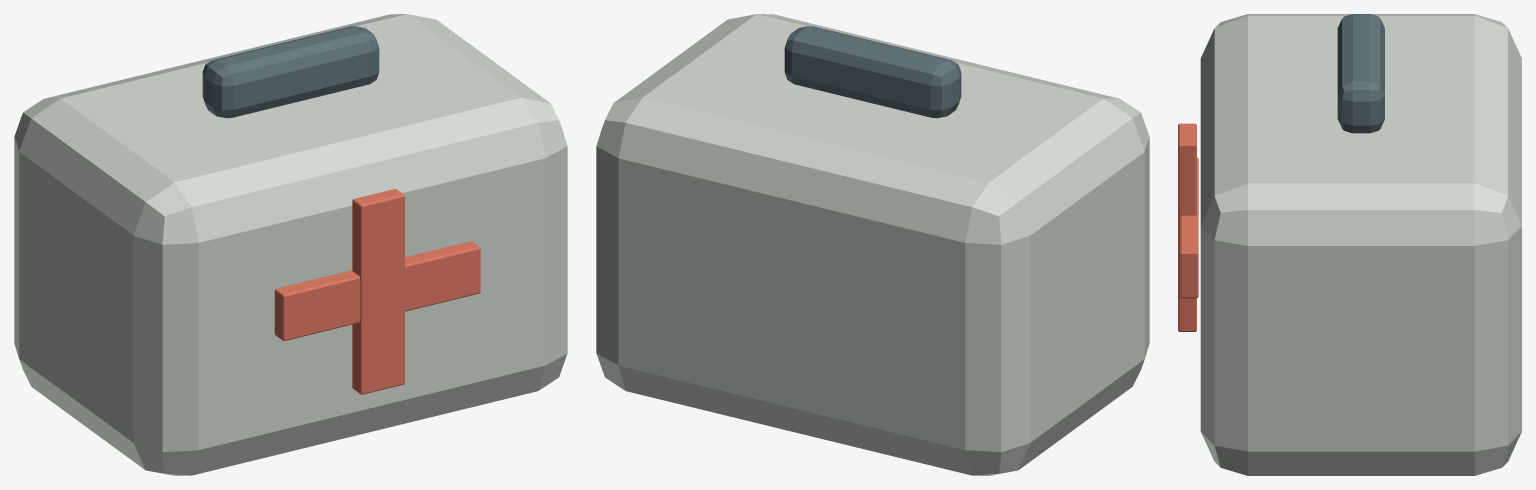
File: medkit.glb
3 renders of one model, left to right at view 1: azimuth 30°, elevation 25°; view 2: azimuth 150°, elevation 25°; view 3: azimuth 270°, elevation 25°, orthographic.
Parts seen in each view (by area): view 1: Medical case, Handle, Cross vertical, Cross horizontal; view 2: Medical case, Handle; view 3: Medical case, Handle, Cross vertical, Cross horizontal.
Part boxes in pixels (left/top/right/bottom): Medical case: left=14, top=14, right=567, bottom=475; Handle: left=202, top=26, right=379, bottom=118; Cross vertical: left=352, top=189, right=404, bottom=394; Cross horizontal: left=274, top=241, right=480, bottom=340; Medical case: left=596, top=14, right=1149, bottom=475; Handle: left=784, top=26, right=961, bottom=118; Medical case: left=1200, top=14, right=1521, bottom=475; Handle: left=1337, top=14, right=1384, bottom=133; Cross vertical: left=1178, top=123, right=1196, bottom=331; Cross horizontal: left=1180, top=157, right=1198, bottom=298.
Bounding box in the file's own units: 0.26 × 0.2 × 0.182.
